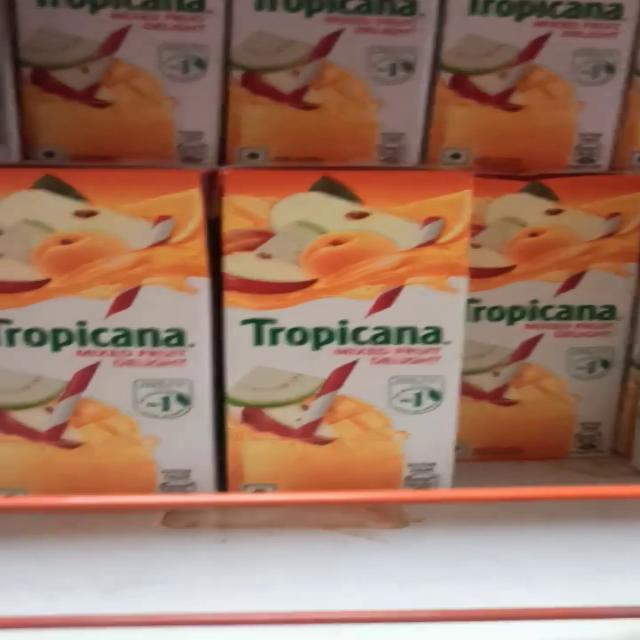Tropicana: (213, 168, 462, 514)
